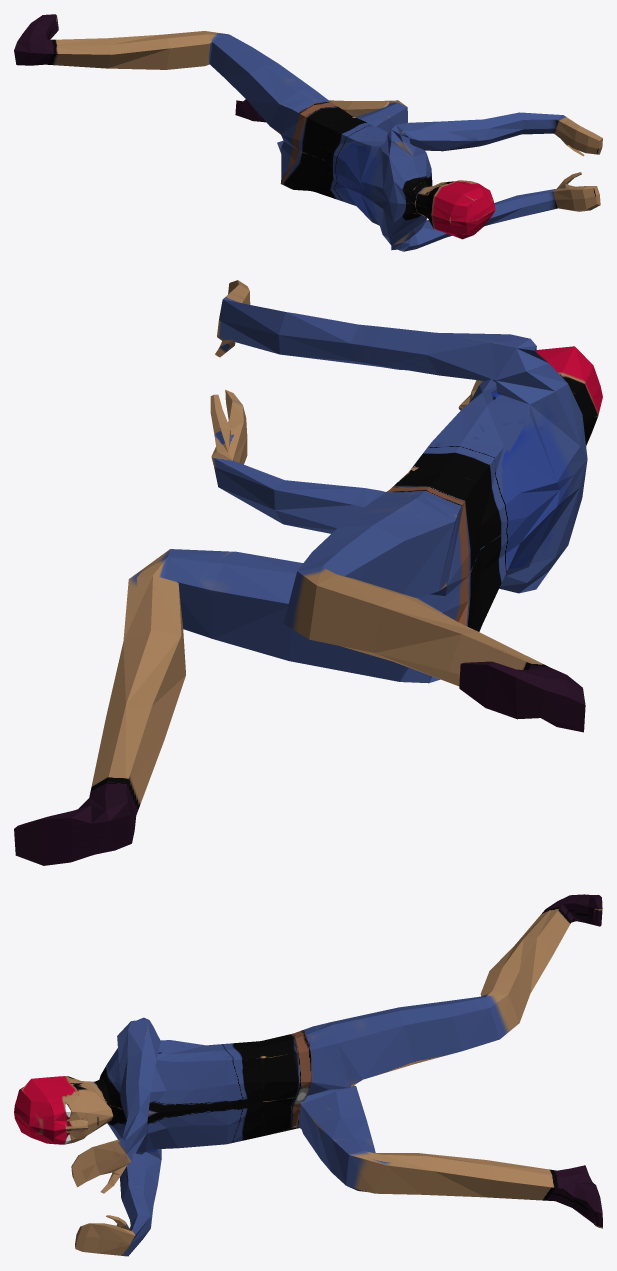
File: mirrorman_000028.obj
3 views of the same model, one above another, from view 1: azimuth 30°, elevation 25°; view 2: azimuth 150°, elevation 25°; view 3: azimuth 270°, elevation 25° (orthographic). The views are drawn at different scales.
Visible parts, largest first — view 1: mirrorman_Cube.001_Material.001; view 2: mirrorman_Cube.001_Material.001; view 3: mirrorman_Cube.001_Material.001.
Part boxes in pixels (box(x1,y1,x2,y2)): mirrorman_Cube.001_Material.001: box(14, 14, 602, 251); mirrorman_Cube.001_Material.001: box(14, 280, 602, 865); mirrorman_Cube.001_Material.001: box(14, 894, 602, 1256).
Bounding box in the file's own units: 1.39 × 0.5408 × 1.5.
